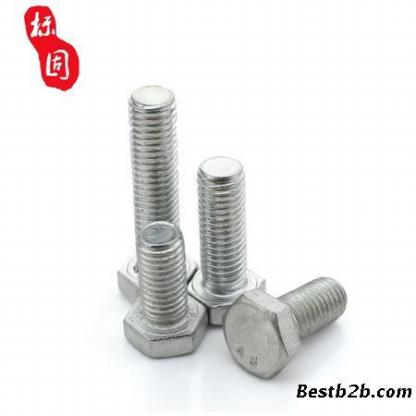FOD: (113, 84, 198, 314), (220, 272, 349, 383), (122, 220, 209, 361)
